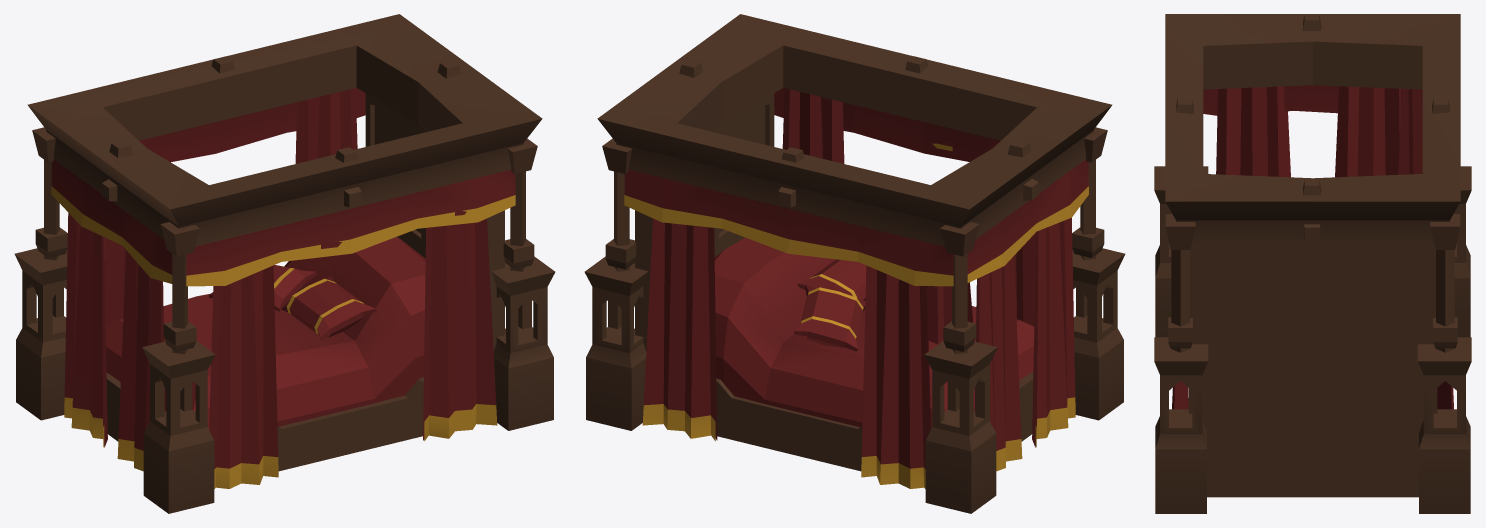
File: Bed.fbx
The picture shows the model from 3 angles, left to right: view 1: azimuth 30°, elevation 25°; view 2: azimuth 150°, elevation 25°; view 3: azimuth 270°, elevation 25°; orthographic projection. The views are drawn at different scales.
Parts seen in each view (by area): view 1: bed; view 2: bed; view 3: bed.
Boxes of the visible parts, left/top/right/bottom form: bed: left=14, top=14, right=555, bottom=513; bed: left=584, top=14, right=1125, bottom=513; bed: left=1154, top=14, right=1471, bottom=513.
Size of the model in its own units: 5.7 by 4.32 by 3.92.
